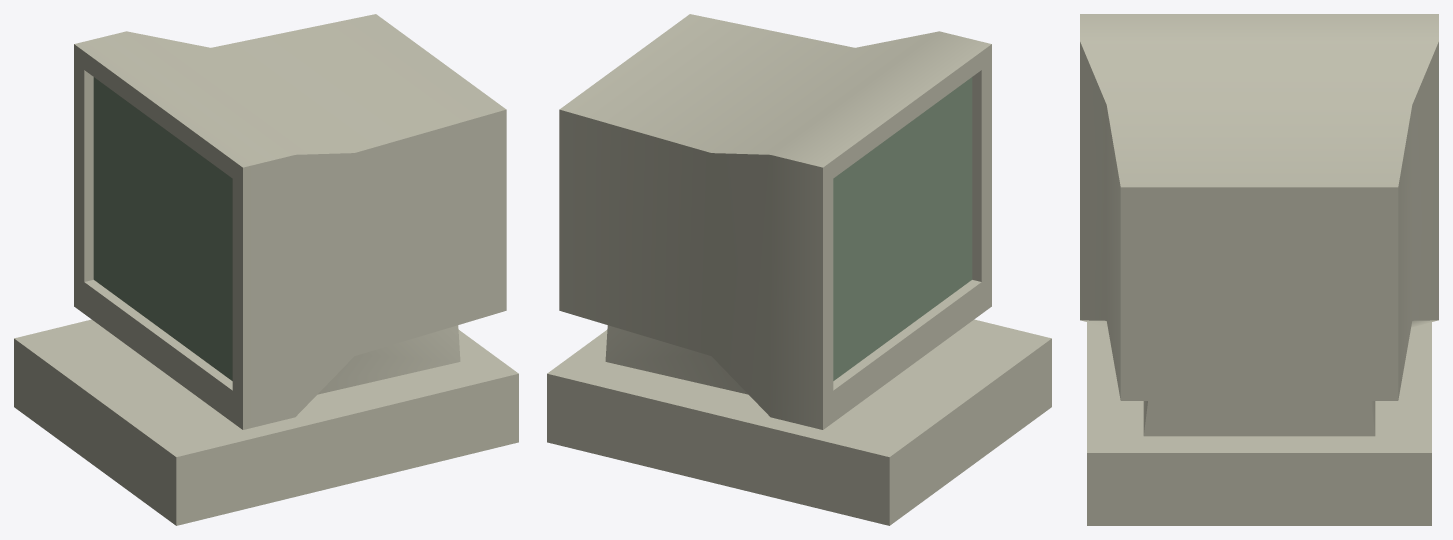
Rendered from Computer.fbx.
3 renders of one model, left to right at view 1: azimuth 30°, elevation 25°; view 2: azimuth 150°, elevation 25°; view 3: azimuth 270°, elevation 25°, orthographic. The views are drawn at different scales.
Parts seen in each view (by area): view 1: Computer; view 2: Computer; view 3: Computer.
Part boxes in pixels (box(x1,y1,x2,y2)): Computer: box(14, 14, 518, 525); Computer: box(547, 14, 1051, 525); Computer: box(1080, 14, 1438, 525).
Size of the model in its own units: 7.36 by 7.01 by 6.22.
